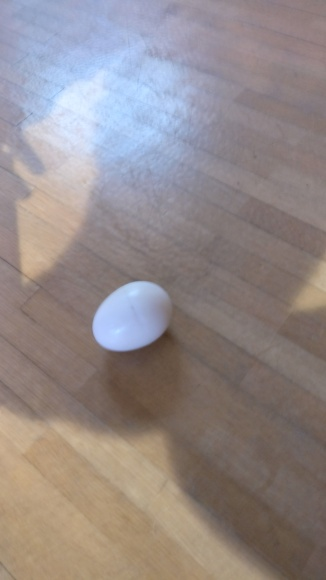egg: (92, 280, 173, 352)
